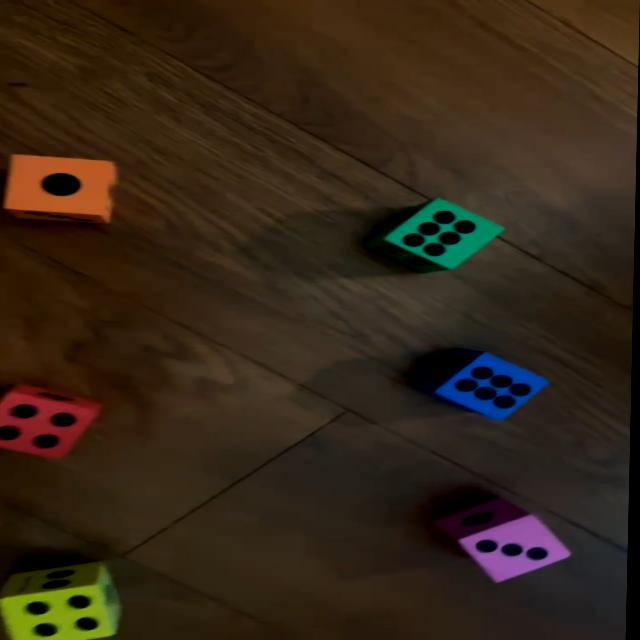cube: (368, 197, 508, 272), (414, 349, 555, 419), (0, 385, 104, 460)
